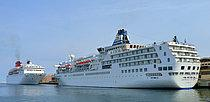Ship: (53, 24, 204, 91), (7, 55, 51, 87)
